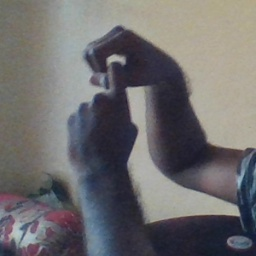Q: (65, 22, 158, 162)
